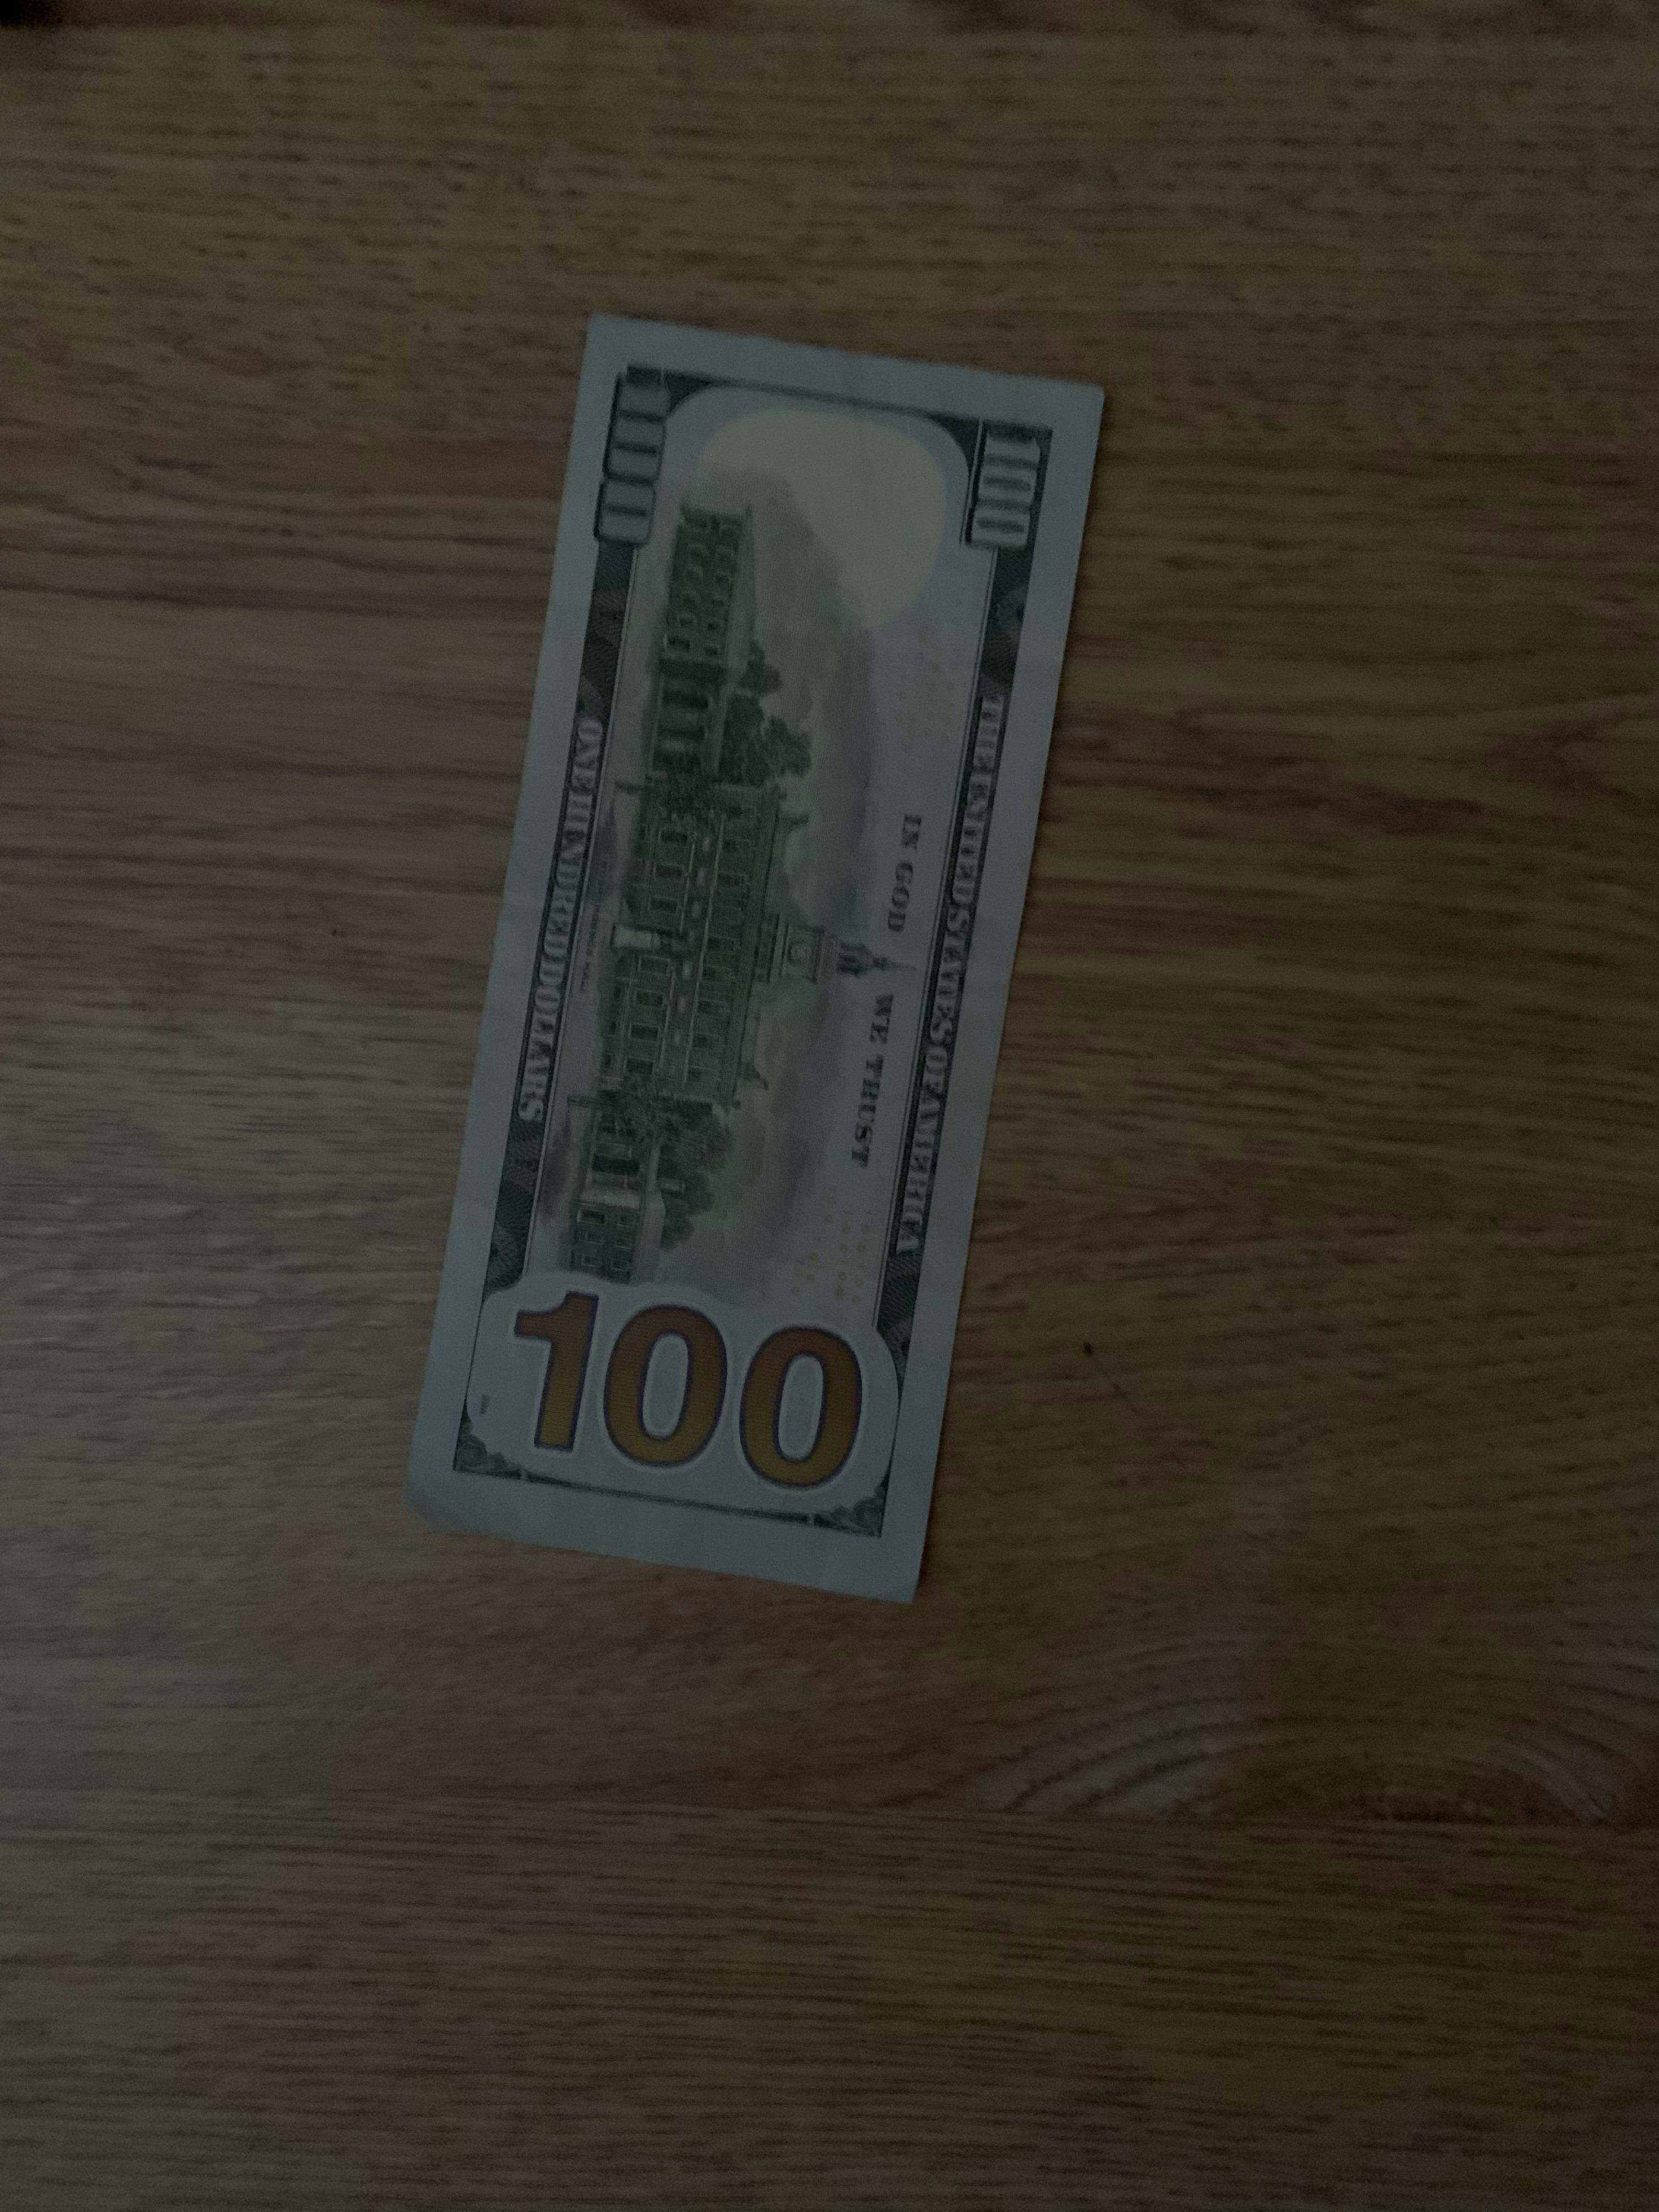HundredBill: (425, 291, 1119, 1606)
